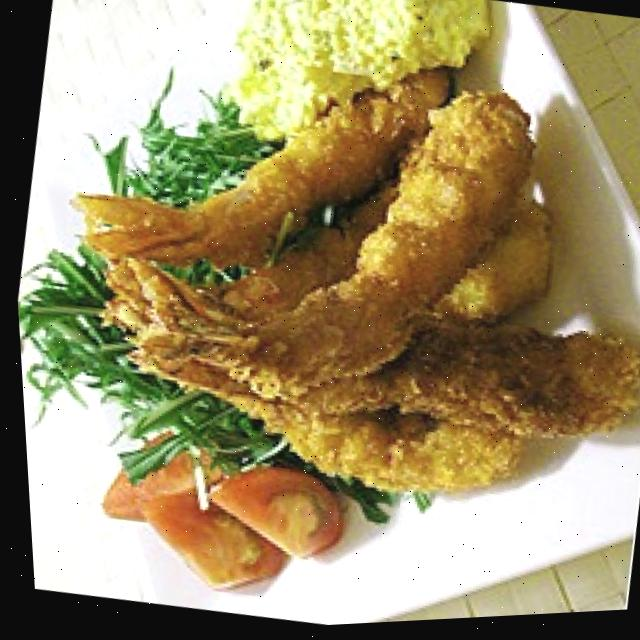炸货点心: (15, 5, 640, 560)
熟制海鲜: (15, 5, 640, 560)
